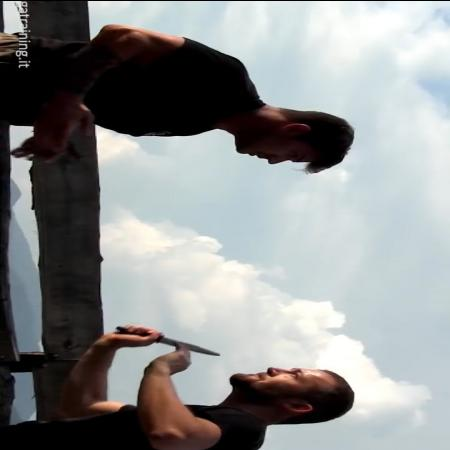long weapon: (112, 322, 230, 356)
